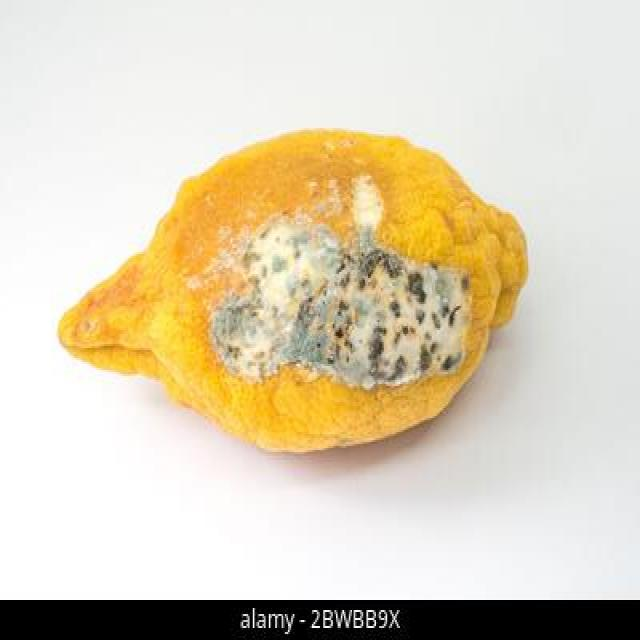Rotten: (62, 125, 529, 454)
